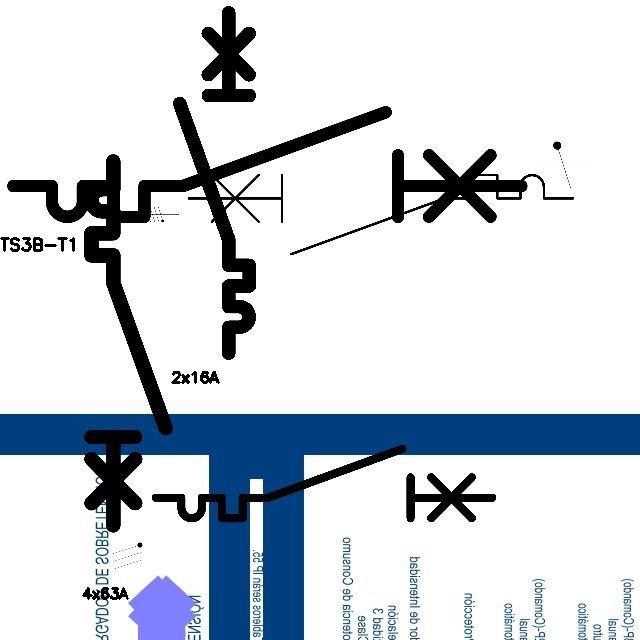interruptor_termomagnetico: (0, 99, 534, 230), (178, 165, 582, 264), (82, 152, 175, 534), (171, 4, 258, 362), (147, 440, 501, 527)
